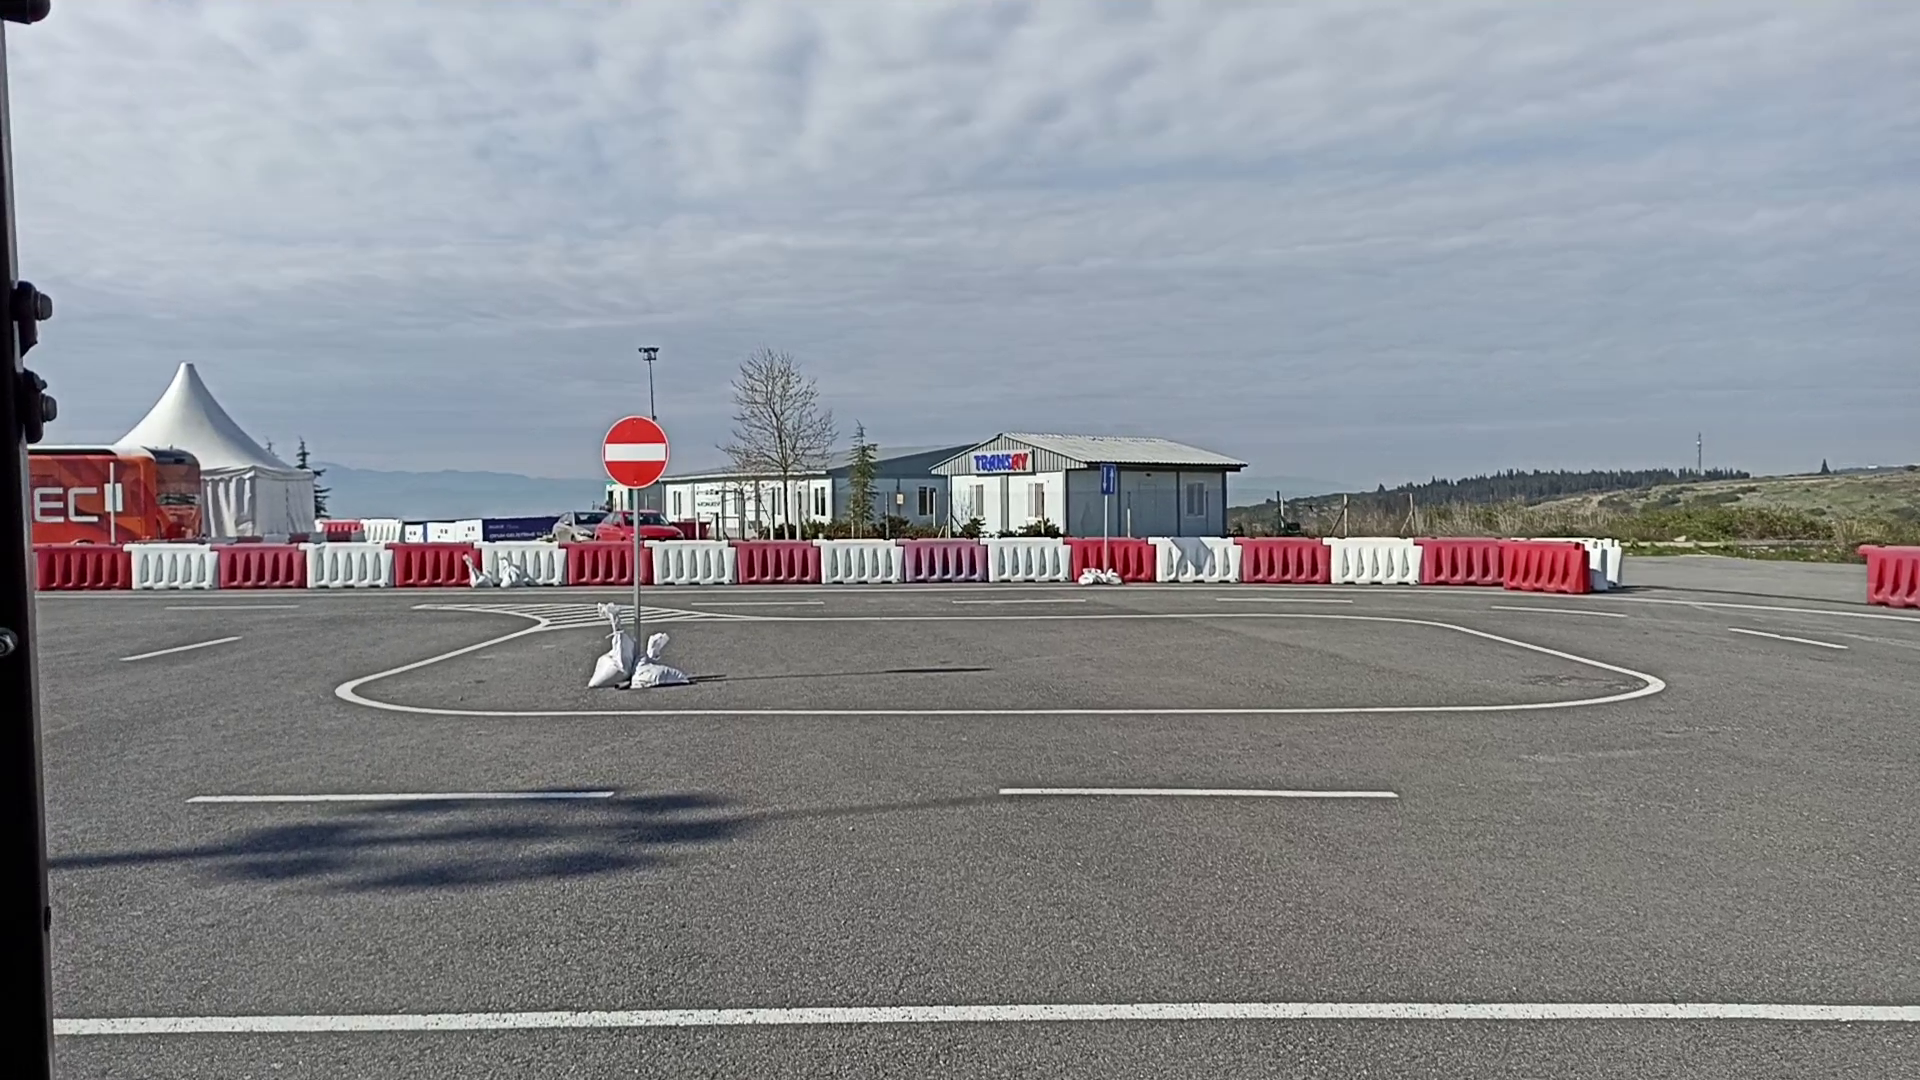noentryway: (597, 414, 670, 491)
